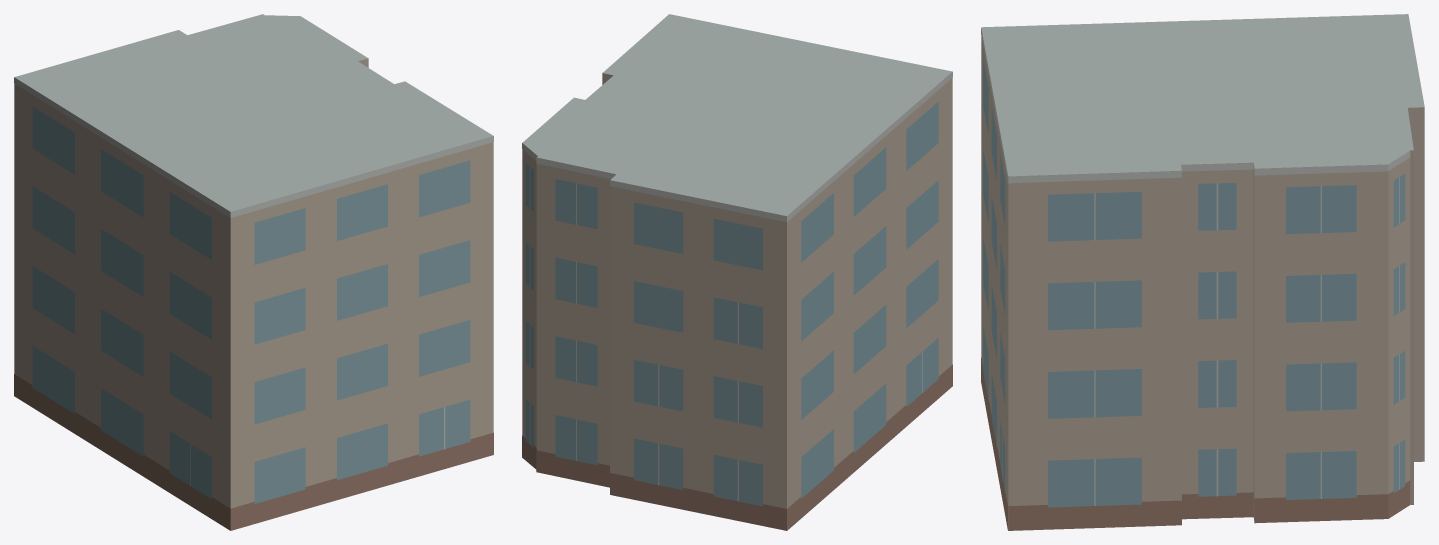
Rendered from survey-upis-32620604.glb.
3 views of the same model, side by side, from view 1: azimuth 30°, elevation 25°; view 2: azimuth 150°, elevation 25°; view 3: azimuth 270°, elevation 25° (orthographic). The views are drawn at different scales.
Visible parts, largest first — view 1: survey-upis-32620604.tmp; view 2: survey-upis-32620604.tmp; view 3: survey-upis-32620604.tmp.
Part boxes in pixels (x1=…): survey-upis-32620604.tmp: x1=14, y1=14, x2=493, y2=530; survey-upis-32620604.tmp: x1=522, y1=14, x2=952, y2=530; survey-upis-32620604.tmp: x1=981, y1=14, x2=1424, y2=530.
Bounding box in the file's own units: 12.39 × 12.6 × 14.3.
